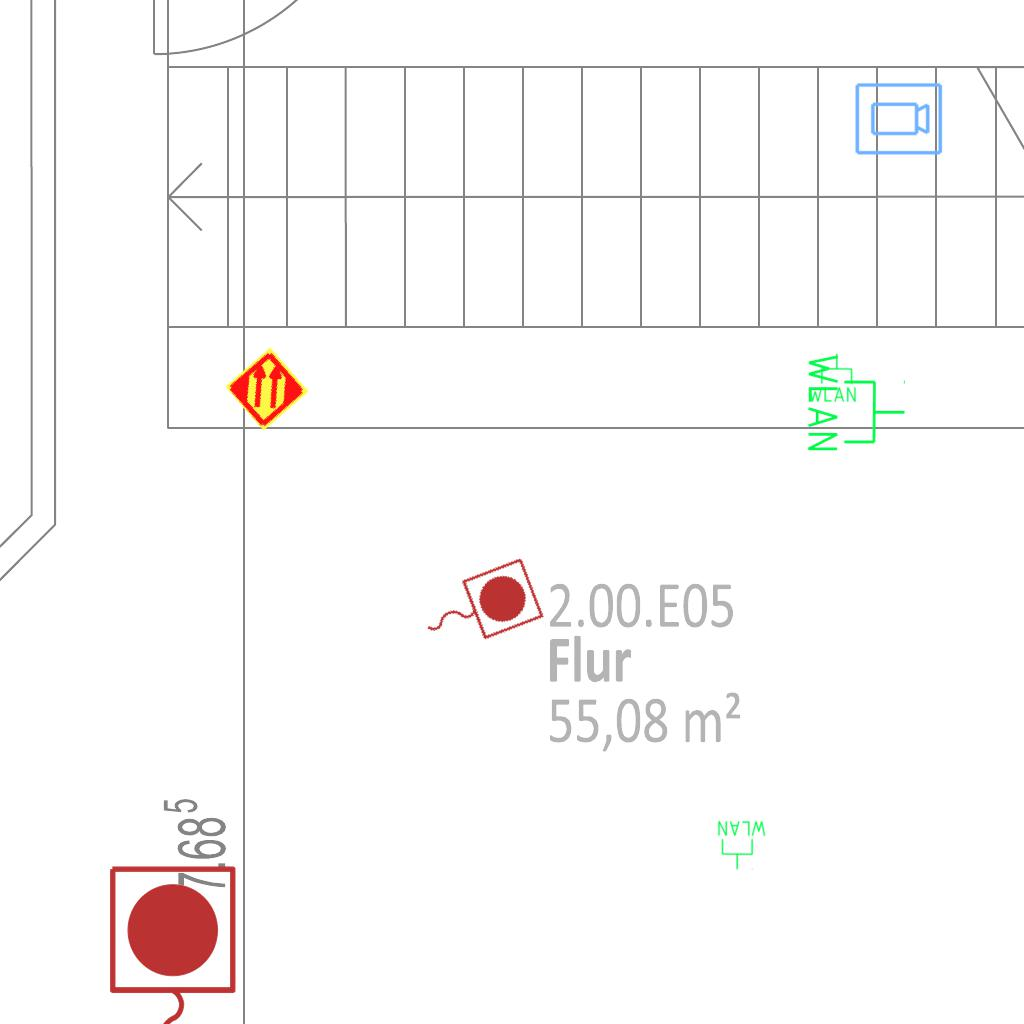ASR_Ansaugrauchmelder: (223, 345, 311, 433)
KFO_Kamera_mit_Festobjektiv: (853, 81, 944, 158)
WLAN: (804, 350, 908, 455), (716, 819, 768, 871), (806, 352, 858, 404)
Zugtaster: (99, 858, 243, 1024), (409, 551, 549, 663)
